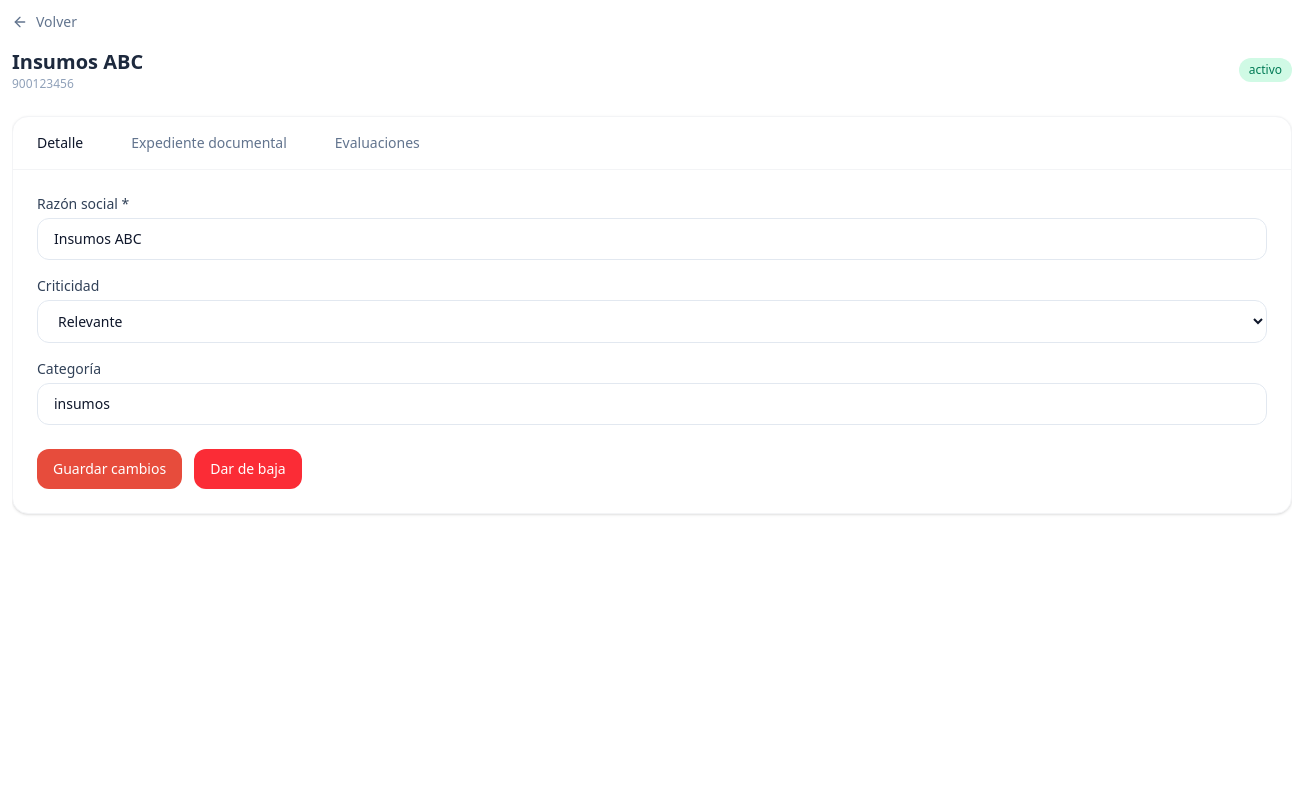
Scenario: ProveedorDetalle › shows the document estado for a covered requisito
Expected: the heading "Insumos ABC" is shown, left=12, top=48, right=143, bottom=76
Click the tab "Expediente documental" at coordinates (209, 143), box left=107, top=117, right=311, bottom=169
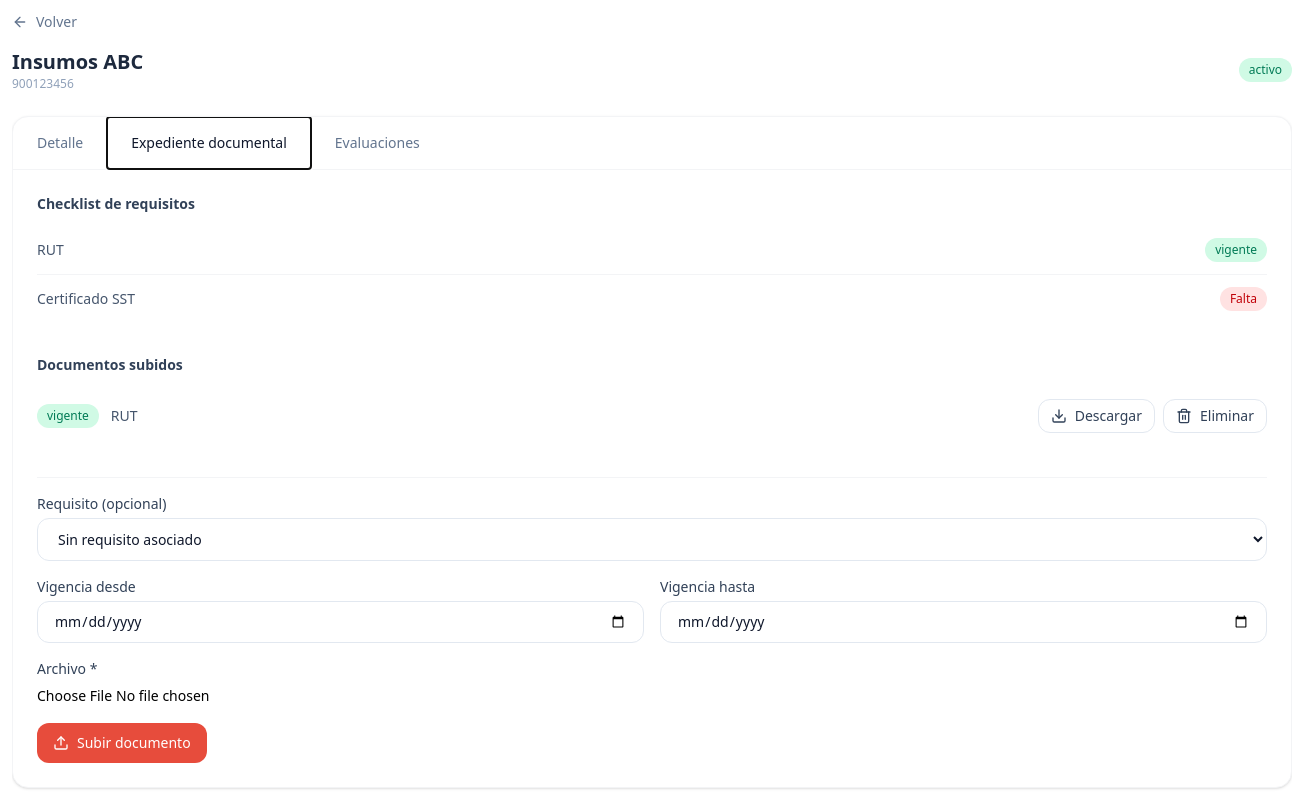
Now the heading "Checklist de requisitos" is shown, box left=37, top=194, right=195, bottom=213
Now the 1st text "vigente" is shown, box left=1205, top=238, right=1267, bottom=262
